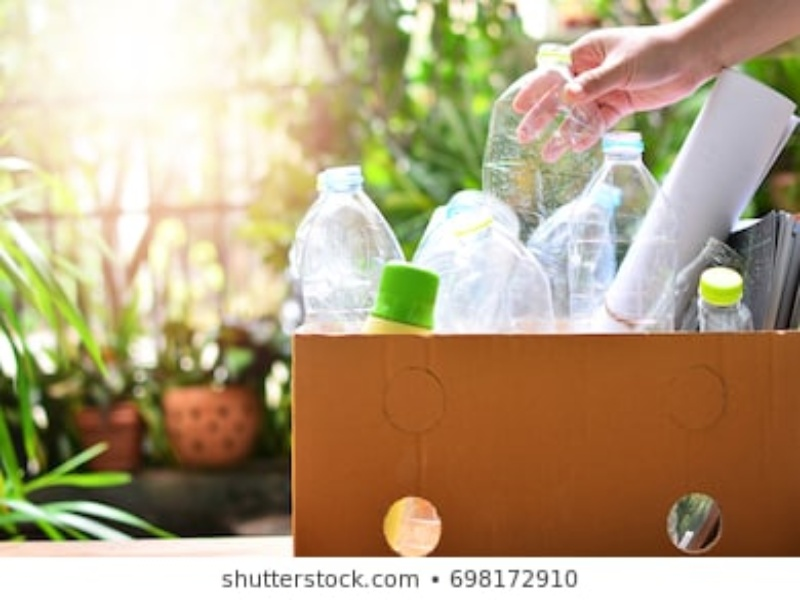bottle-cap: (685, 260, 751, 306)
plastic-bottle: (484, 33, 617, 313), (289, 161, 423, 333), (416, 186, 563, 342), (576, 132, 670, 333)
